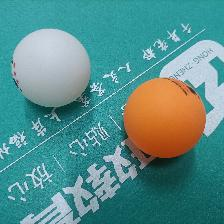WhiteBall: (10, 27, 91, 107)
YellowBall: (122, 76, 206, 158)
